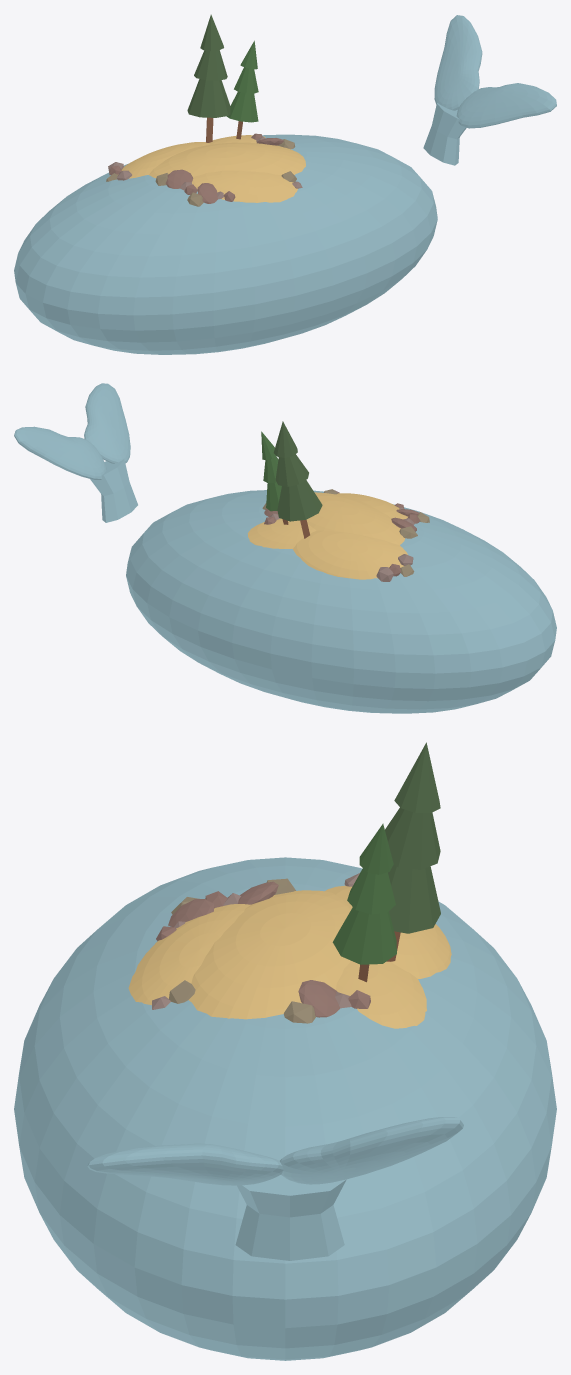
File: island4.glb
3 renders of one model, top to bottom at view 1: azimuth 30°, elevation 25°; view 2: azimuth 150°, elevation 25°; view 3: azimuth 270°, elevation 25°, orthographic. The views are drawn at different scales.
Parts seen in each view (by area): view 1: Sphere, Sphere.015, Sphere.021, Sphere.019, Cone.044, Sphere.016, Cylinder.080, Cone.045, Sphere.018; view 2: Sphere, Sphere.018, Sphere.015, Sphere.021, Sphere.019, Cone.044, Cylinder.080, Sphere.017, Cone.045, Sphere.016; view 3: Sphere, Sphere.015, Cylinder.080, Cone.044, Sphere.021, Sphere.019, Cone.045, Sphere.016, Sphere.017, Sphere.018, Icosphere.107.
Part boxes in pixels (x1,y1,x2,y2): Sphere: [14, 134, 437, 354]; Sphere.015: [149, 142, 305, 178]; Sphere.021: [434, 15, 482, 110]; Sphere.019: [456, 83, 556, 128]; Cone.044: [187, 14, 230, 117]; Sphere.016: [192, 170, 297, 202]; Cylinder.080: [423, 103, 466, 165]; Cone.045: [227, 40, 258, 122]; Sphere.018: [118, 142, 209, 178]; Sphere: [126, 490, 556, 713]; Sphere.018: [293, 530, 407, 579]; Sphere.015: [306, 492, 405, 545]; Sphere.021: [14, 426, 106, 479]; Sphere.019: [84, 383, 130, 463]; Cone.044: [273, 421, 322, 521]; Cylinder.080: [90, 459, 137, 522]; Sphere.017: [247, 518, 316, 548]; Cone.045: [261, 431, 281, 511]; Sphere.016: [336, 493, 407, 519]; Sphere: [14, 857, 556, 1360]; Sphere.015: [189, 890, 350, 1019]; Cylinder.080: [235, 1175, 346, 1260]; Cone.044: [385, 742, 440, 933]; Sphere.021: [280, 1117, 463, 1184]; Sphere.019: [87, 1143, 283, 1185]; Cone.045: [332, 823, 396, 964]; Sphere.016: [128, 904, 250, 1005]; Sphere.017: [336, 961, 426, 1028]; Sphere.018: [325, 885, 451, 978]; Icosphere.107: [298, 980, 340, 1017].
Size of the model in its own units: 5.87 by 3.29 by 2.93.
